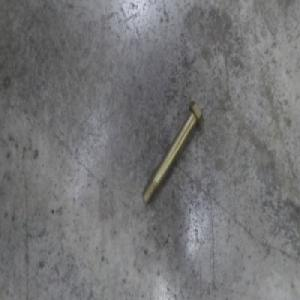Bolt: (141, 97, 204, 207)
